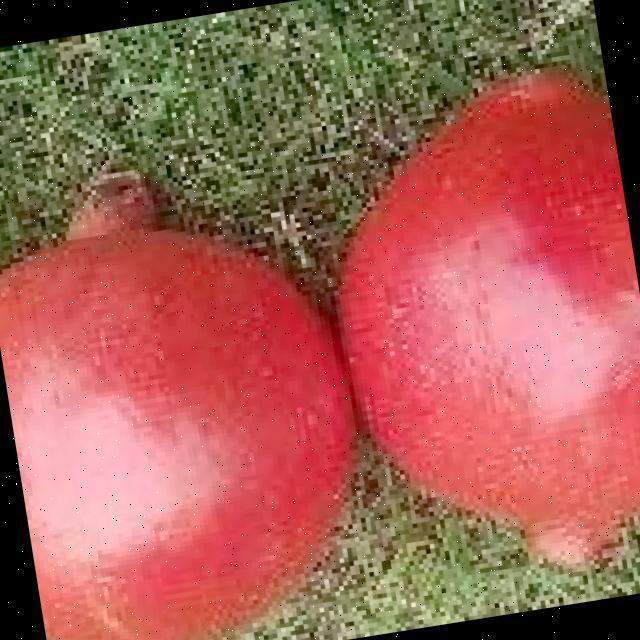Good_Pomegranate-50-60-days: (0, 63, 640, 640)
